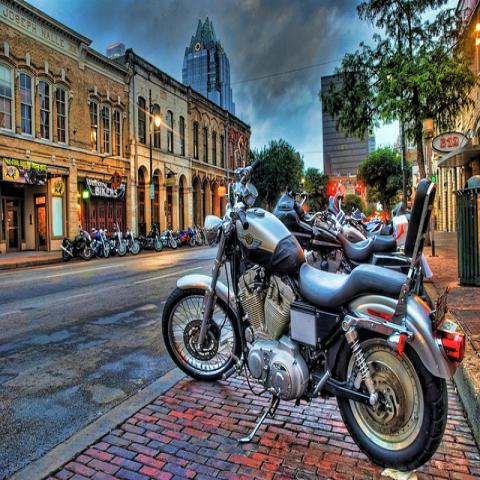motorcycle: (162, 158, 466, 474), (274, 186, 411, 277), (335, 190, 395, 236), (59, 228, 94, 262), (135, 216, 162, 252), (91, 226, 112, 258), (108, 222, 126, 256), (172, 225, 196, 248), (159, 226, 178, 251), (122, 232, 140, 255)
